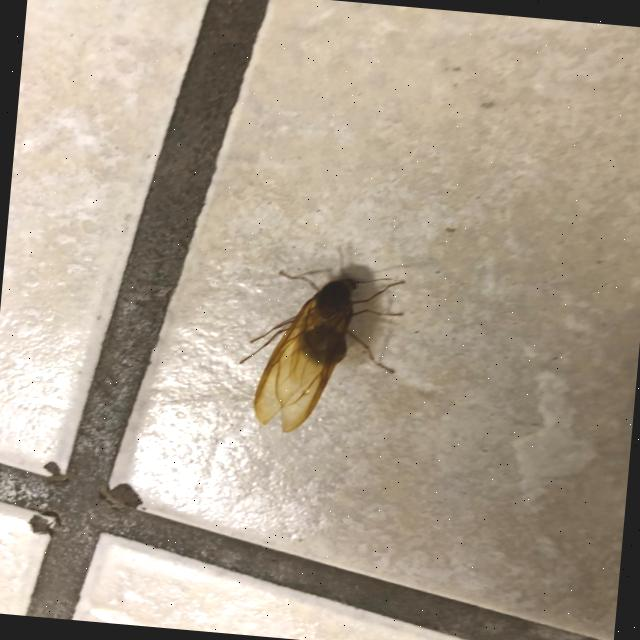Alive-Male-Alate: (232, 236, 410, 443)
